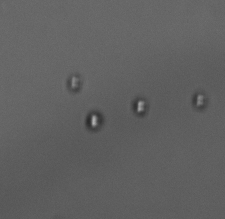Living Cell: (85, 109, 103, 131), (67, 73, 84, 92), (133, 98, 148, 116), (193, 91, 208, 109)
